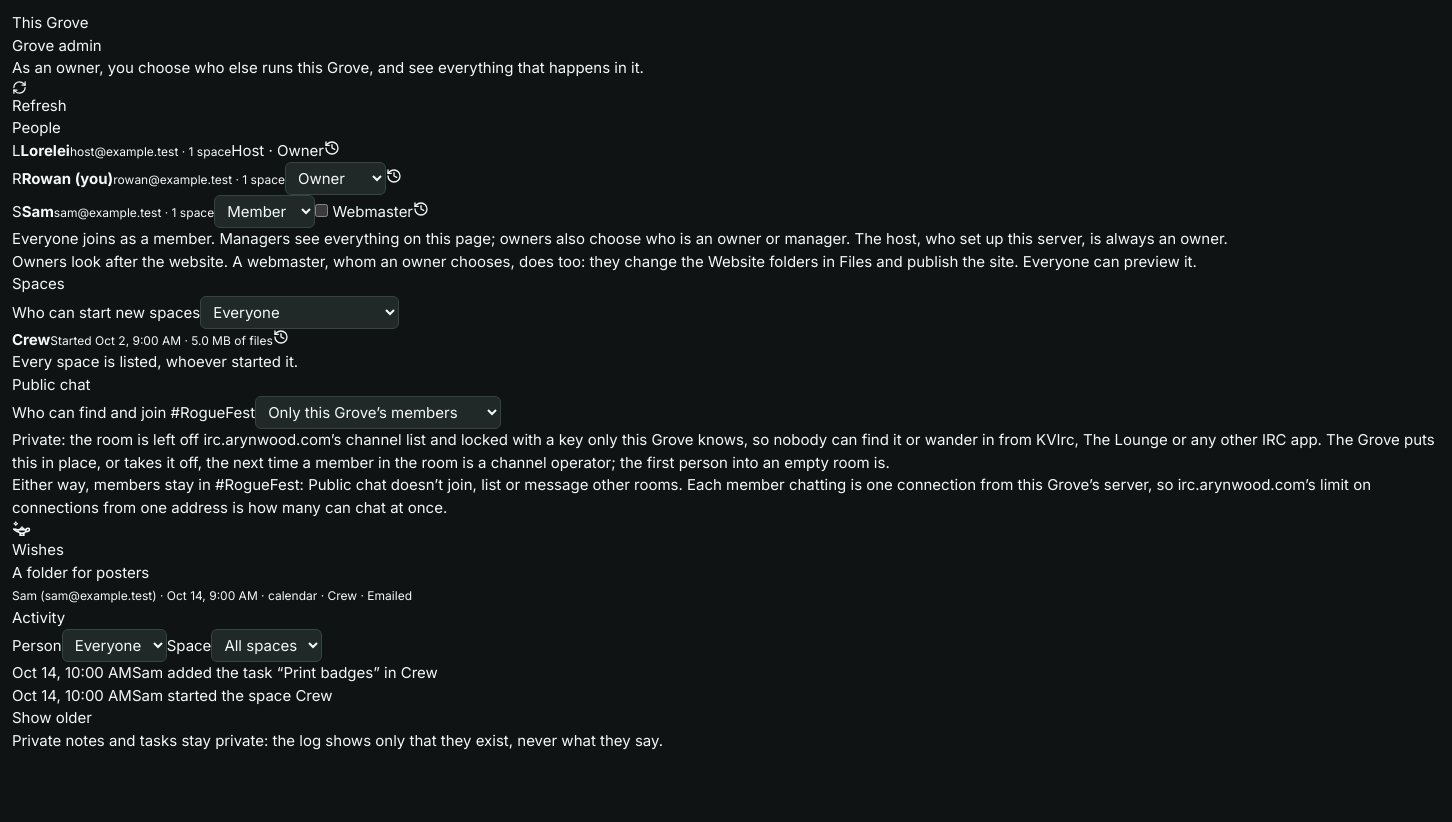
Test: lets an owner open Public chat’s room to the IRC network, or keep it private
Select "Anyone on irc.arynwood.com" in the dropdown labelled "Who can find and join #RogueFest" at point(378, 412), box [255,396,501,429]
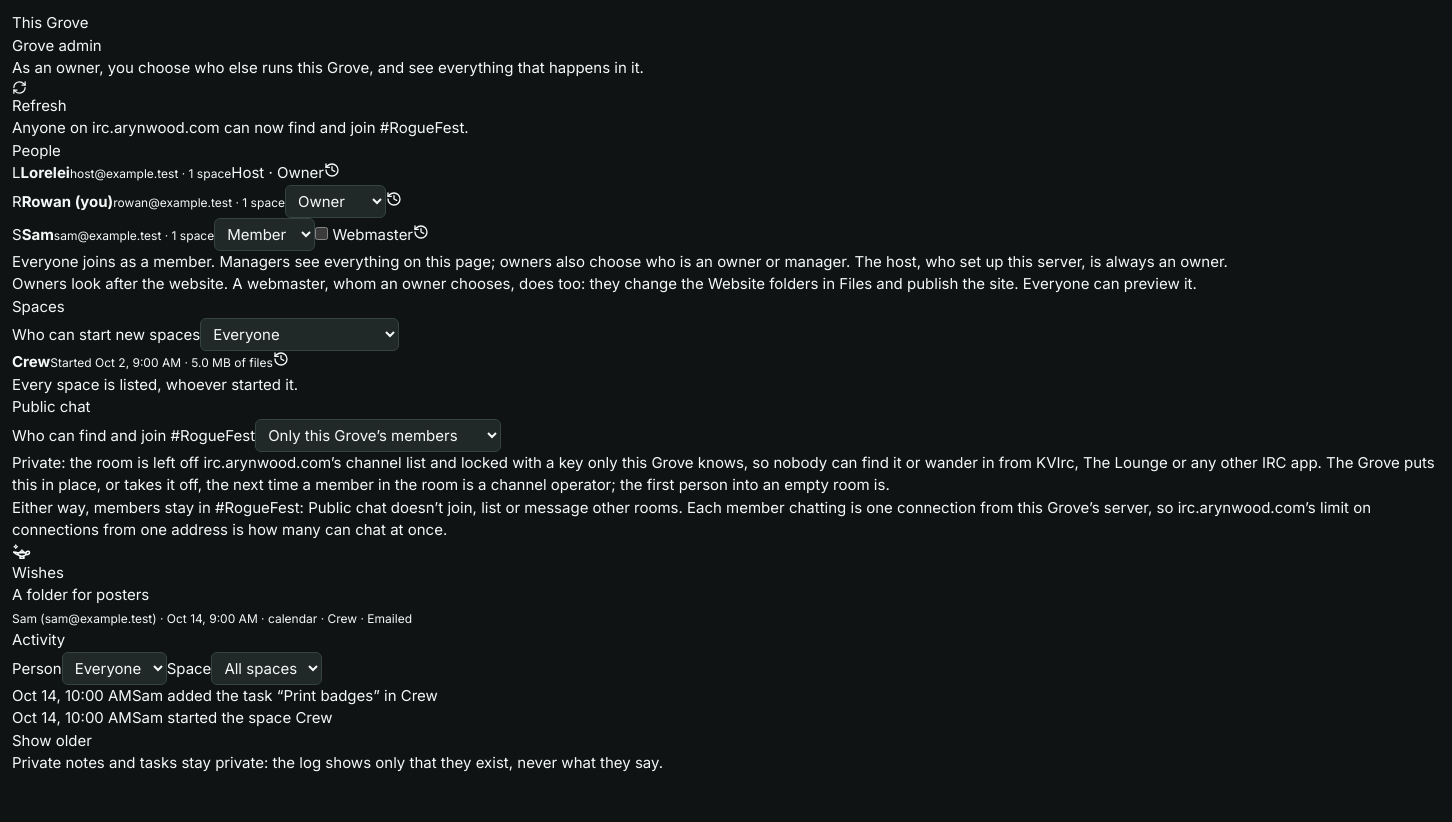
Expected: the text "Anyone on irc.arynwood.com can now find and join #RogueFest." is shown, [12,118,469,137]
